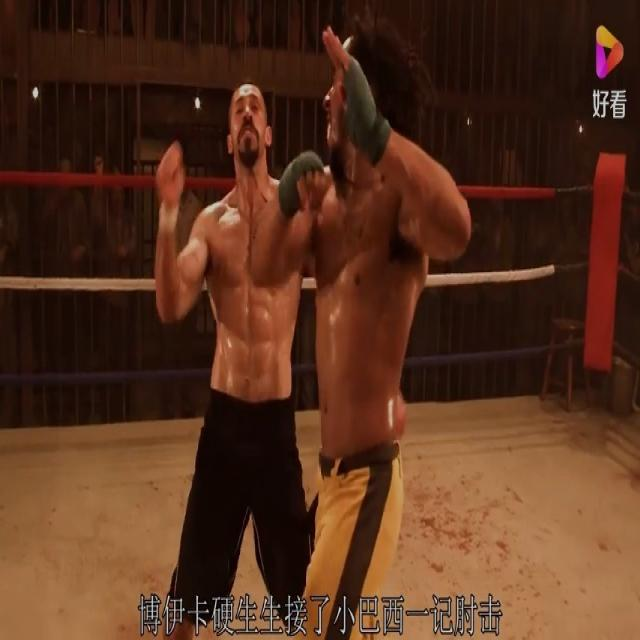fight: (152, 25, 481, 639)
